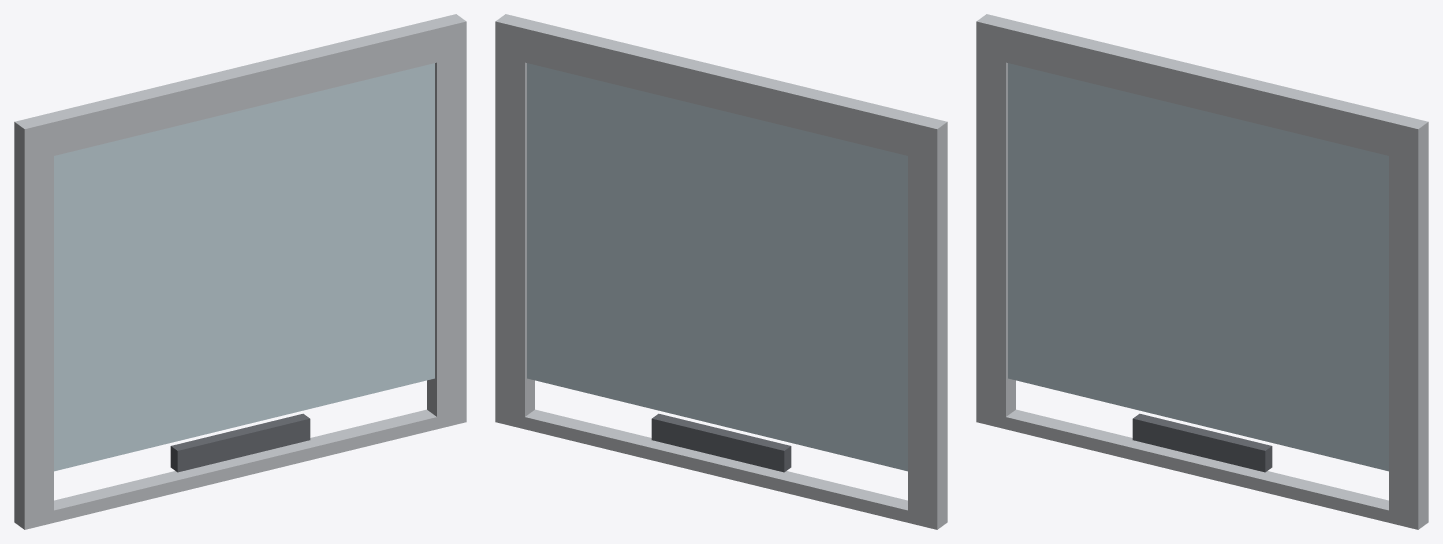
Rendered from bank-vault-heist-kit-bulletproof-screen-f02a8e43__25089.glb.
The picture shows the model from 3 angles, left to right: view 1: azimuth 30°, elevation 25°; view 2: azimuth 150°, elevation 25°; view 3: azimuth 330°, elevation 25°; orthographic projection.
Visible parts, largest first — view 1: bulletproof-screen; view 2: bulletproof-screen; view 3: bulletproof-screen.
Boxes of the visible parts, left/top/right/bottom form: bulletproof-screen: left=14, top=14, right=466, bottom=529; bulletproof-screen: left=495, top=14, right=947, bottom=529; bulletproof-screen: left=976, top=14, right=1428, bottom=529.
Size of the model in its own units: 1.5 by 1.3 by 0.0601.
